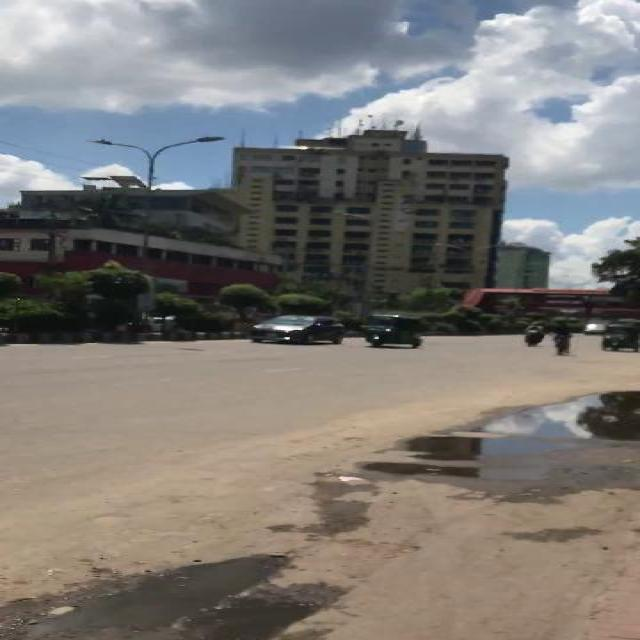car: (249, 313, 343, 344)
motorcycle: (361, 312, 423, 348), (599, 323, 637, 352), (523, 319, 544, 345)
